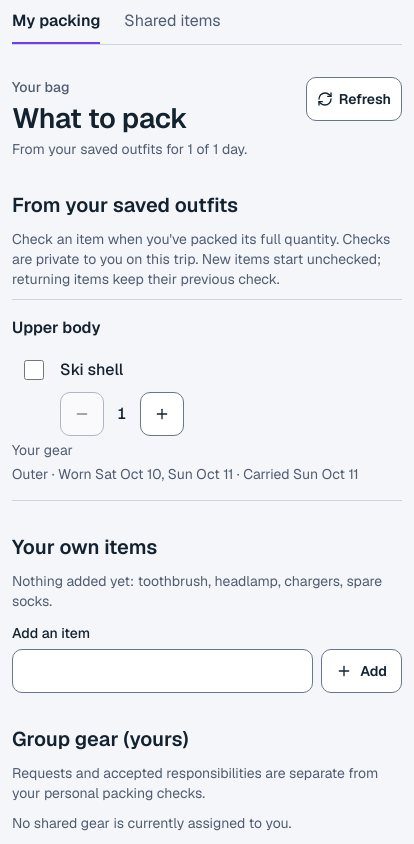
Test: Packing from saved outfits › waits for a change still saving before reading the list again
Click the button with aria-label "Refresh pack list": click(354, 99) [306,77,402,121]
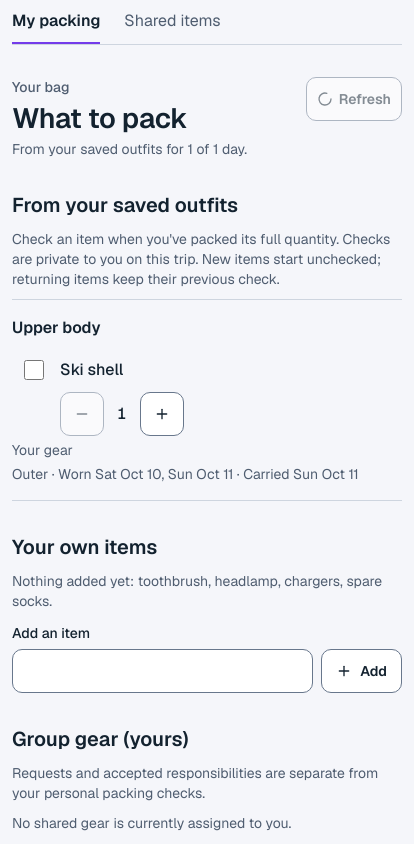
Click the button named "One more Ski shell": click(162, 414) [140,392,184,436]
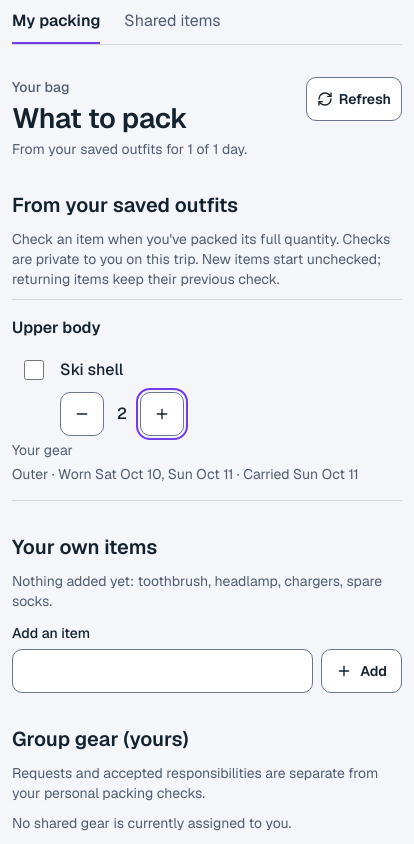
Now the element named "How many Ski shell" reads "2", box [117,403,127,424]
